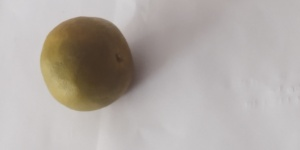BAD: (39, 13, 136, 110)
